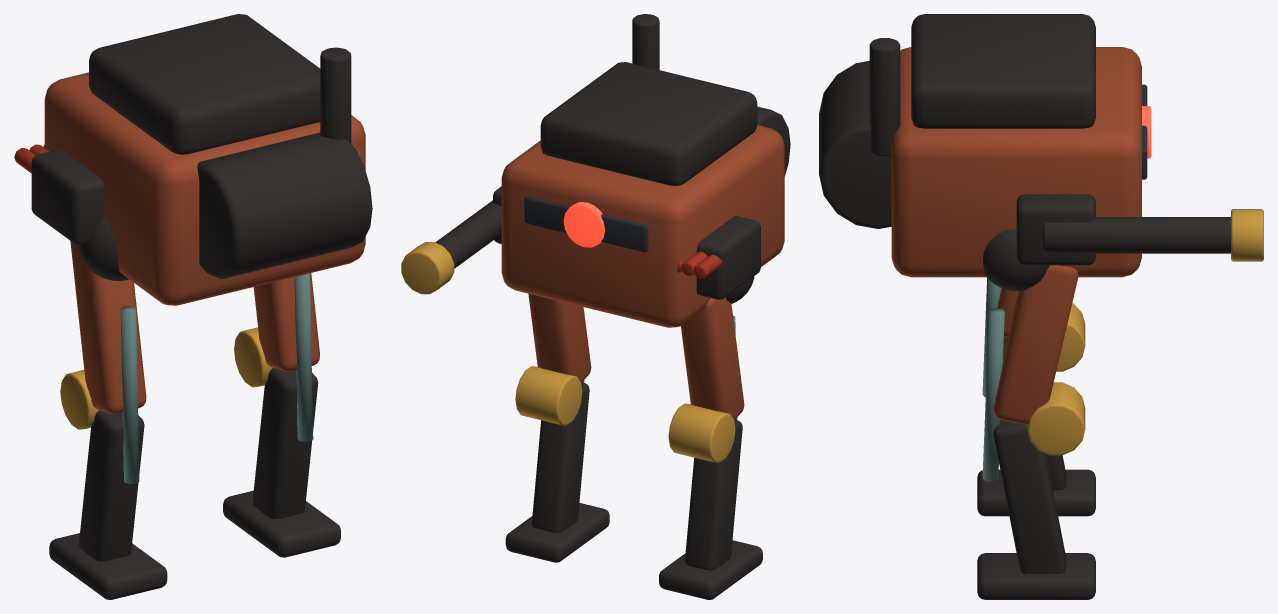
File: walker.glb
The picture shows the model from 3 angles, left to right: view 1: azimuth 30°, elevation 25°; view 2: azimuth 150°, elevation 25°; view 3: azimuth 270°, elevation 25°; orthographic projection. The views are drawn at different scales.
Visible parts, largest first — view 1: hull, hullTop, boilerBack, HipL_thigh, HipR_shin, HipL_shin, rack, HipL_foot, HipR_foot, HipR_thigh, chimney, HipL_piston (+4 smaller); view 2: hull, hullTop, HipL_thigh, HipL_shin, HipR_shin, HipR_thigh, rack, HipL_knee, HipR_knee, HipR_foot, HipL_foot, visor (+5 smaller); view 3: hull, hullTop, boilerBack, HipR_thigh, HipR_shin, barrel, HipR_foot, mount, chimney, HipR_knee, HipL_foot, HipR_piston (+5 smaller).
Part boxes in pixels (box(x1,y1,x2,y2)): hull: box(44, 72, 365, 305); hullTop: box(89, 14, 320, 154); boilerBack: box(197, 132, 372, 278); HipL_thigh: box(70, 241, 146, 413); HipR_shin: box(252, 368, 318, 519); HipL_shin: box(79, 410, 144, 561); rack: box(31, 149, 104, 244); HipL_foot: box(49, 533, 167, 599); HipR_foot: box(223, 490, 340, 557); HipR_thigh: box(253, 273, 319, 371); chimney: box(320, 47, 351, 143); HipL_piston: box(120, 306, 139, 484); hull: box(501, 125, 784, 327); hullTop: box(540, 62, 757, 185); HipL_thigh: box(680, 297, 744, 420); HipL_shin: box(685, 420, 742, 570); HipR_shin: box(532, 382, 589, 532); HipR_thigh: box(528, 293, 591, 382); rack: box(696, 215, 760, 299); HipL_knee: box(668, 403, 735, 462); HipR_knee: box(515, 366, 582, 425); HipR_foot: box(505, 503, 609, 562); HipL_foot: box(659, 540, 762, 599); visor: box(524, 196, 648, 252); hull: box(891, 47, 1141, 277); hullTop: box(911, 14, 1095, 128); boilerBack: box(819, 61, 891, 228); HipR_thigh: box(993, 265, 1078, 424); HipR_shin: box(993, 420, 1066, 573); barrel: box(1043, 217, 1230, 253); HipR_foot: box(977, 553, 1095, 599); mount: box(1016, 194, 1095, 265); chimney: box(869, 38, 900, 156); HipR_knee: box(1027, 382, 1085, 455); HipL_foot: box(977, 469, 1095, 516); HipR_piston: box(982, 308, 1004, 481).
Size of the model in its own units: 2.44 by 4.46 by 3.38.
